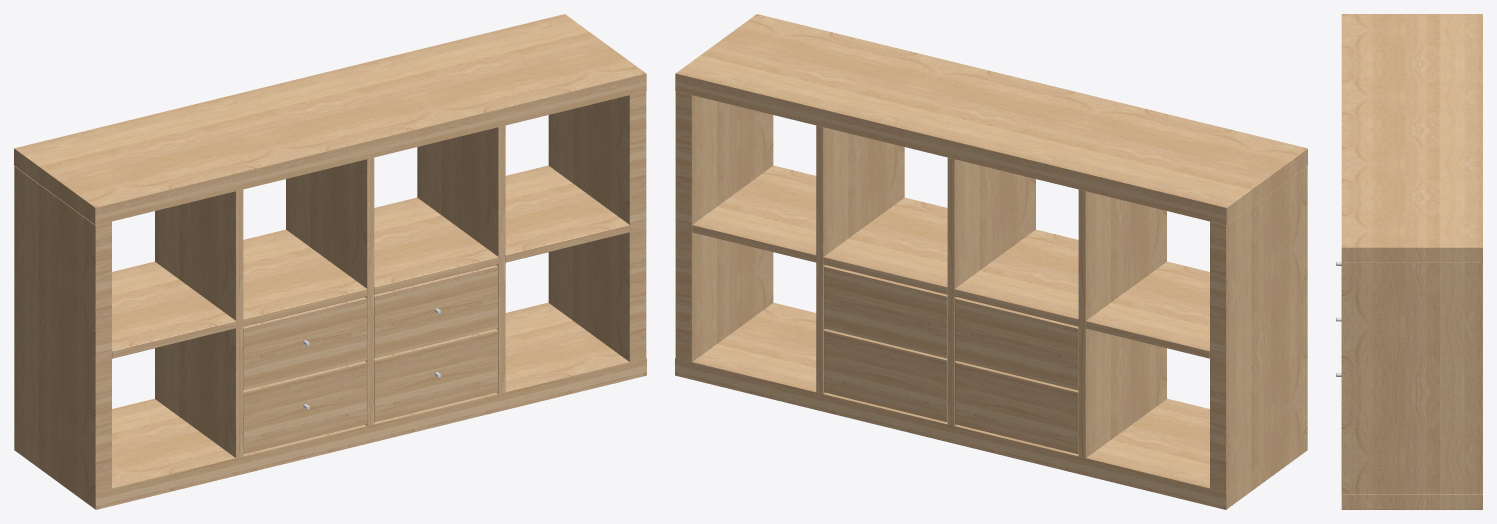
The model's file is kallax.glb.
The picture shows the model from 3 angles, left to right: view 1: azimuth 30°, elevation 25°; view 2: azimuth 150°, elevation 25°; view 3: azimuth 270°, elevation 25°; orthographic projection. The views are drawn at different scales.
Visible parts, largest first — view 1: IKE170012; view 2: IKE170012; view 3: IKE170012.
Boxes of the visible parts, x1,y1,x2,y2 form: IKE170012: (14,14,646,509); IKE170012: (675,14,1307,509); IKE170012: (1336,14,1482,509).
Bounding box in the file's own units: 1.47 × 0.77 × 0.39.
2 materials, 1 textured.
